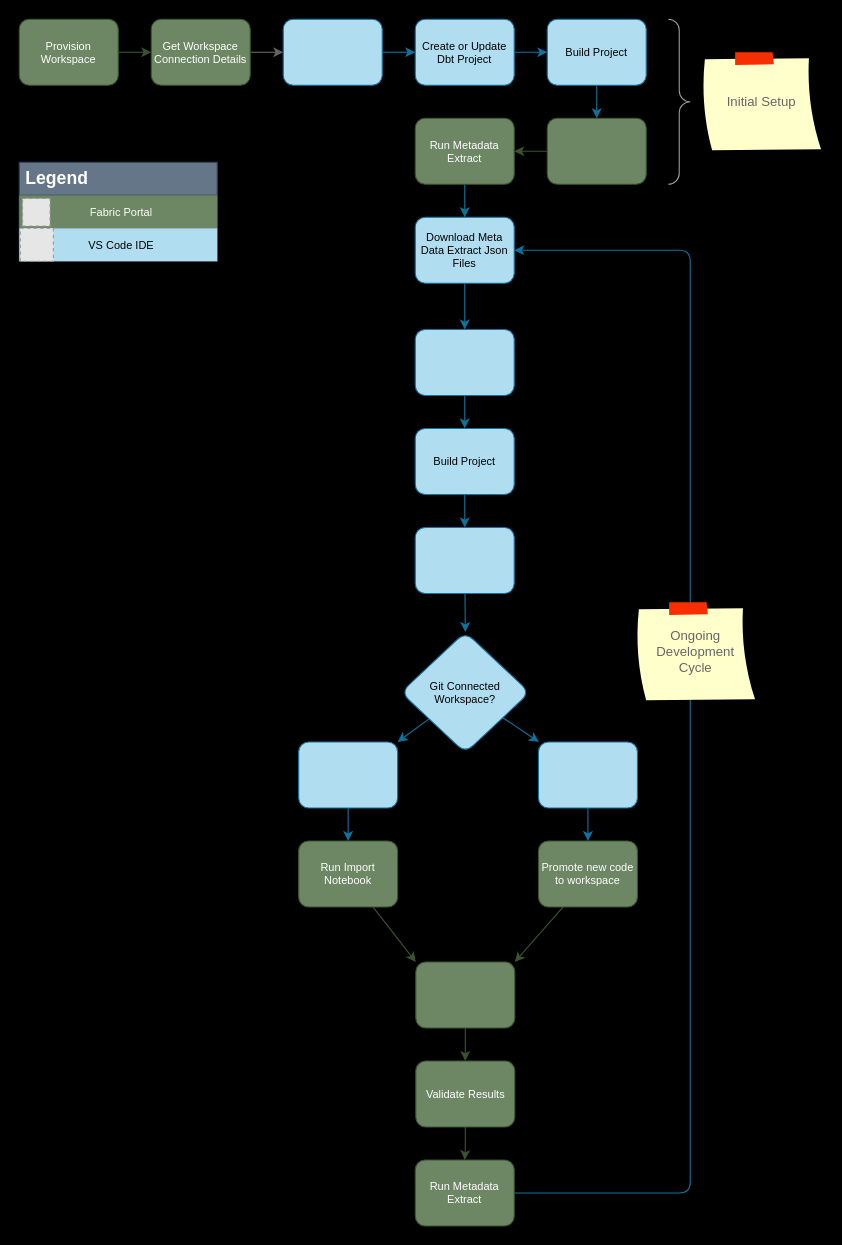
Image size: 842x1245. Some labels were removed from this diagram. Grey dashed boxes stand in for pictures. Each missing label, with the centre of its shape:
Create or Update profiles.yml: pixel 332 51
Manually Upload Import and Metadata Extract Notebooks: pixel 596 150
Run Master Notebook: pixel 465 994
Update Dbt Project: pixel 464 361
Upload Notebooks to Git Repository: pixel 587 774
Upload Notebooks to Onelake: pixel 348 774
Verify Outputs: pixel 464 559
